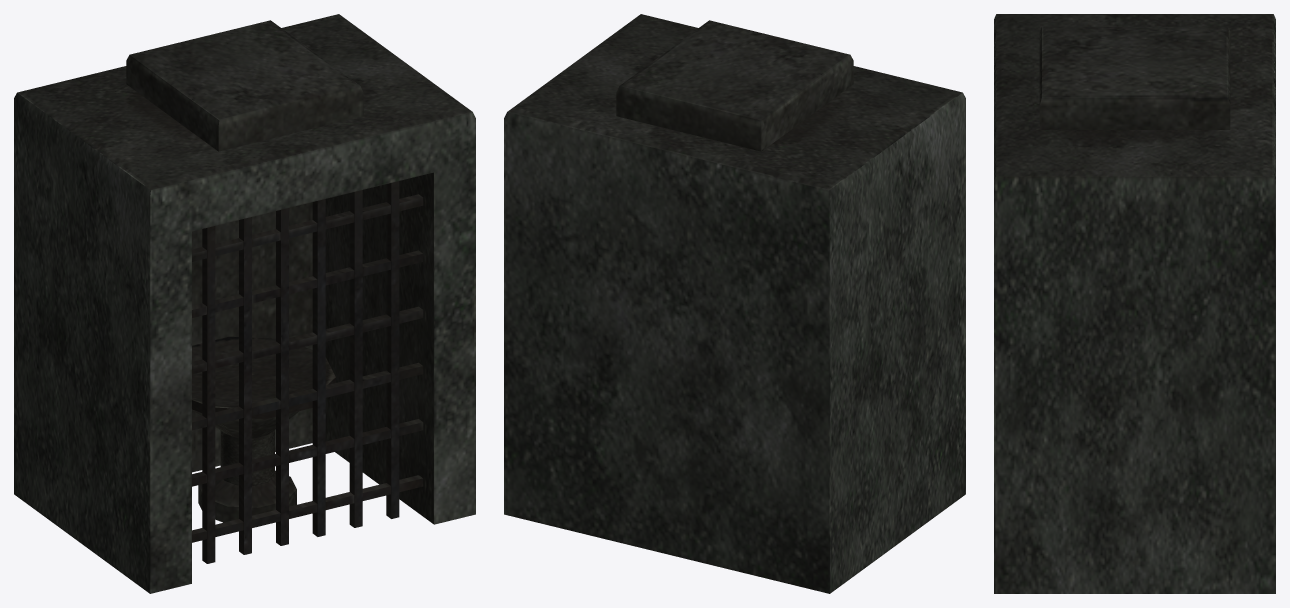
Rendered from cabinet.FBX.
3 renders of one model, left to right at view 1: azimuth 30°, elevation 25°; view 2: azimuth 150°, elevation 25°; view 3: azimuth 270°, elevation 25°, orthographic. The views are drawn at different scales.
Parts seen in each view (by area): view 1: cabinet, grate; view 2: cabinet; view 3: cabinet.
Part boxes in pixels (x1,y1,x2,y2): cabinet: (14,14,475,593); grate: (192,181,423,563); cabinet: (504,14,965,593); cabinet: (994,14,1275,593).
Bounding box in the file's own units: 42.06 × 53.79 × 30.44.
